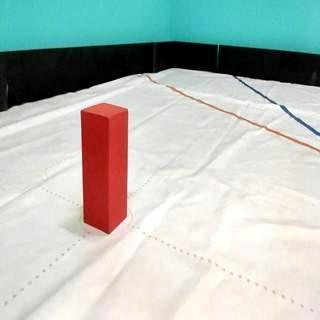redbox: (82, 102, 128, 235)
